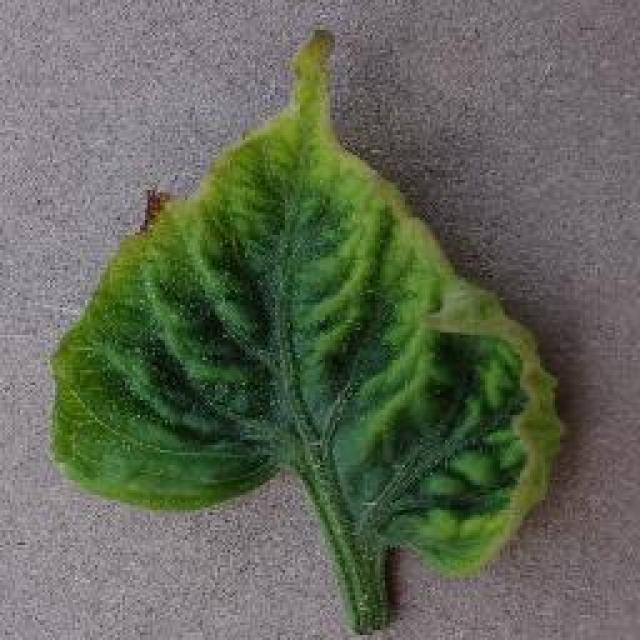Tomato yellow virus leaf: (46, 27, 576, 576)
